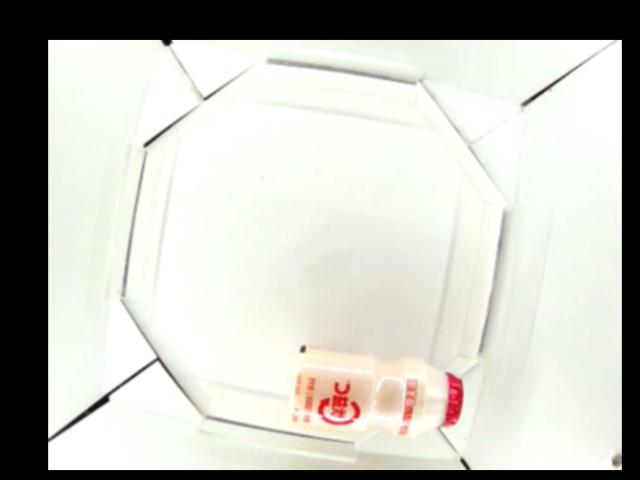Bottle: (285, 347, 468, 436)
